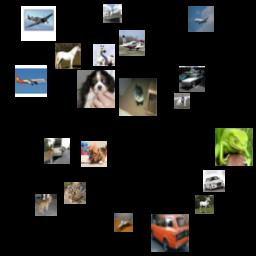airplane: (21, 6, 56, 41), (15, 65, 47, 97), (188, 6, 214, 32), (119, 30, 145, 56), (114, 213, 133, 232)
automobile: (151, 214, 189, 252), (179, 66, 205, 92), (203, 170, 225, 192)
cat: (119, 78, 157, 116), (64, 182, 86, 204)
dog: (77, 70, 115, 108), (81, 141, 107, 167), (35, 194, 57, 216)
frog: (215, 128, 253, 166)
ship: (103, 4, 122, 23)
truck: (44, 138, 70, 164)
